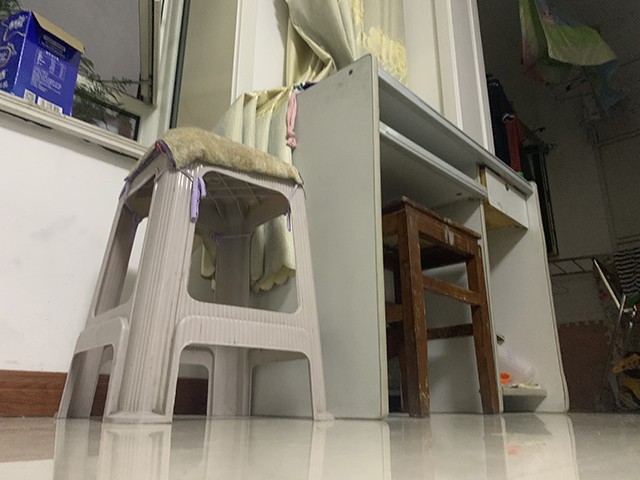stool: (54, 124, 340, 427), (383, 193, 502, 420)
table: (252, 51, 574, 422)
